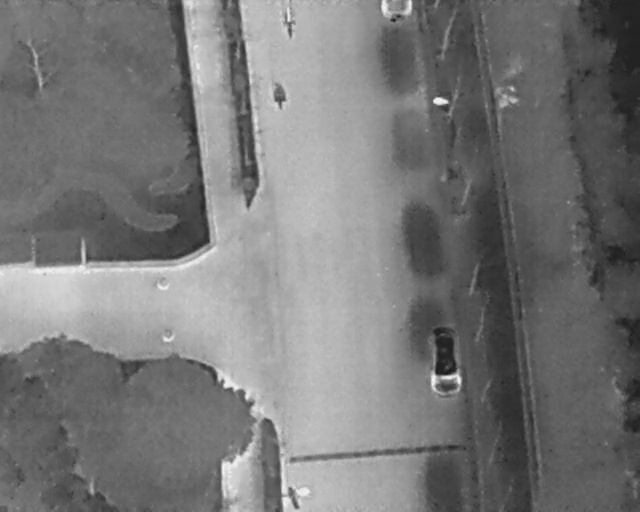Car: (428, 325, 463, 398), (380, 0, 414, 20)
Person: (273, 82, 287, 110), (283, 13, 298, 39)
